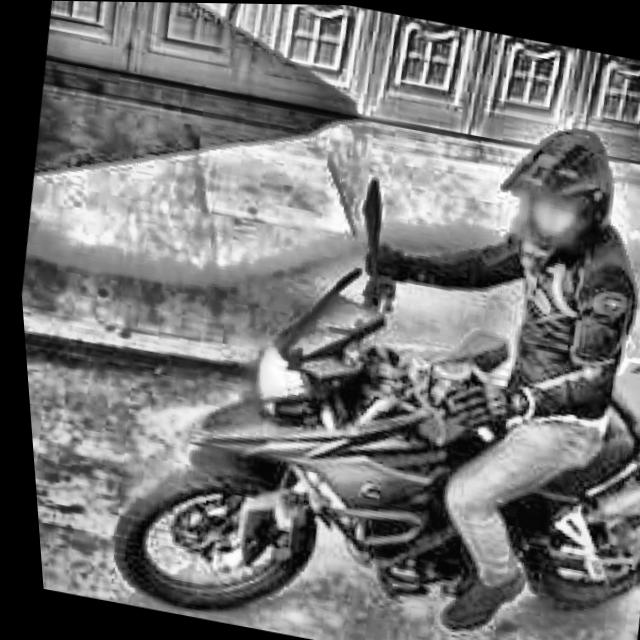motorcycle: (55, 129, 640, 640)
